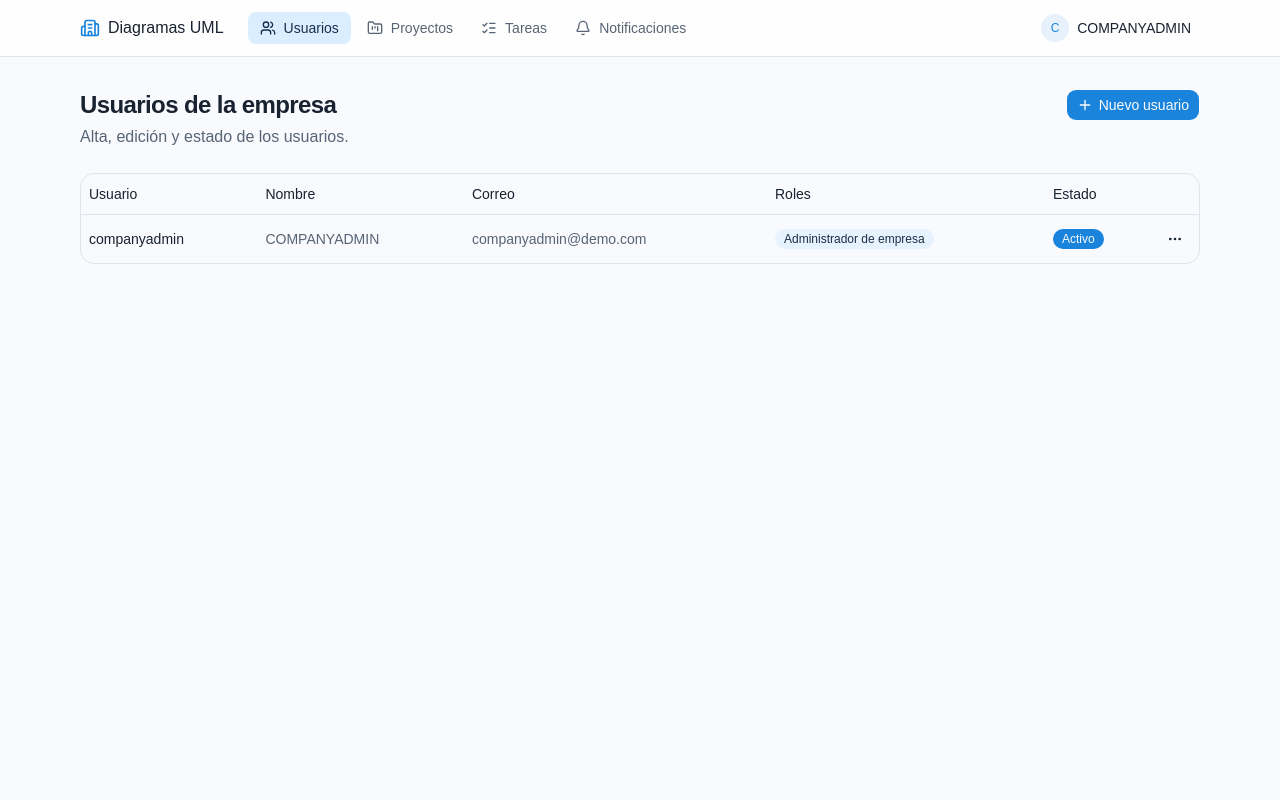
CU-03 Gestionar usuarios de empresa › no ofrece el rol SOFTWARE_ADMIN
The image size is (1280, 800).
Click the button "Nuevo usuario".
click(1133, 105)  # box [1066,89,1200,121]
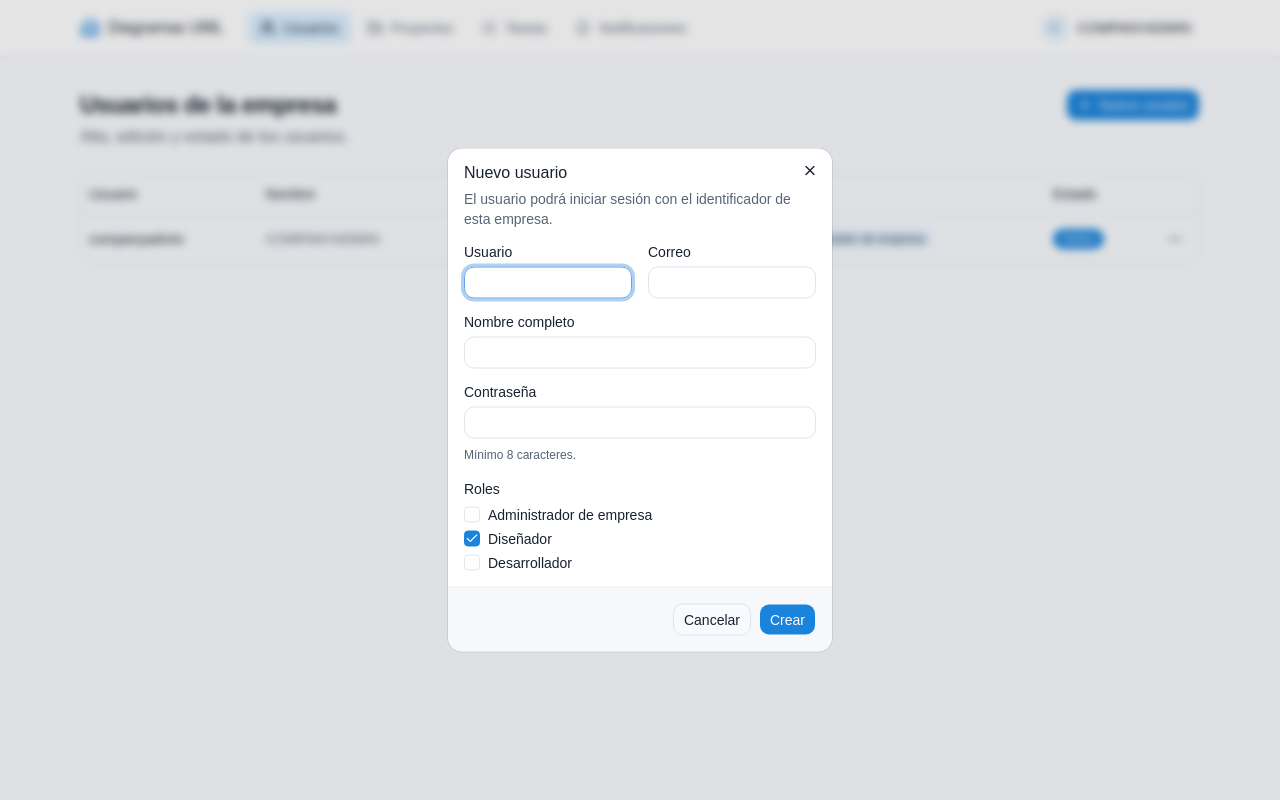
Expected: the checkbox named "Diseñador" next to "Diseñador" is shown, [464,530,480,546]
